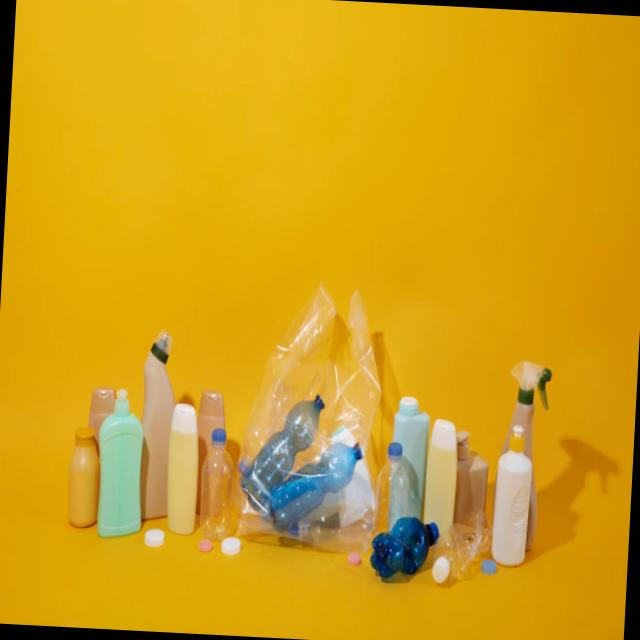plastic_bottle: (235, 391, 326, 494), (495, 420, 540, 576), (160, 396, 205, 538), (62, 410, 101, 531)
